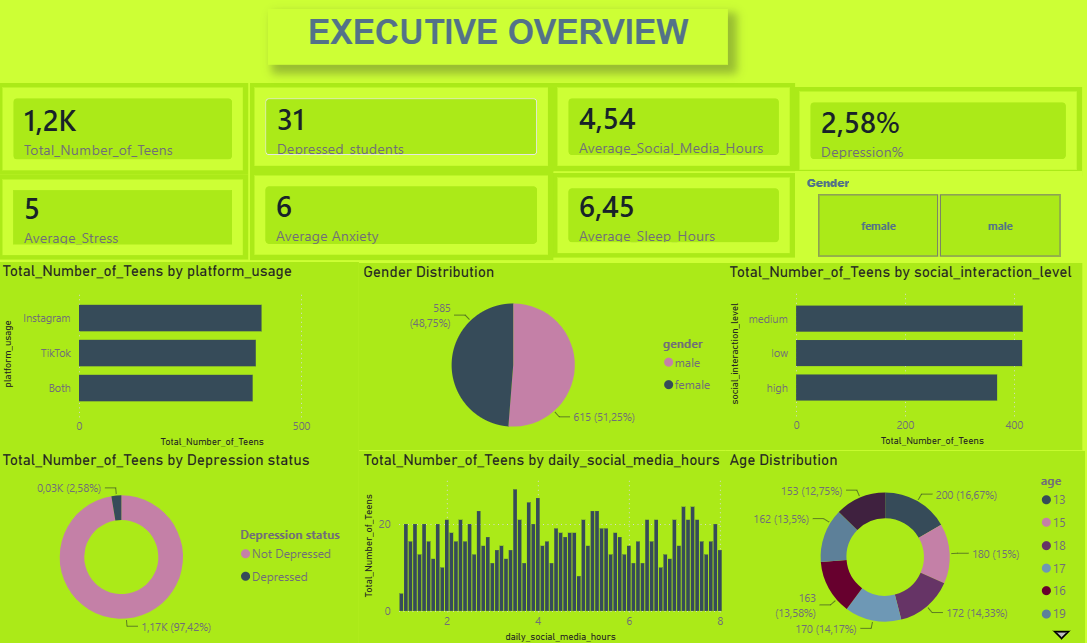

This screenshot's page, from the dashboard's own definition file:
{"tool":"powerbi","page":{"name":"Executive Overview","canvas":[1280,720],"ordinal":0},"visuals":[{"type":"cardVisual","fields":{"Data":["Teen_Mental_Health_Dataset.Total_Number_of_Teens"]},"box":[0,94.4,277.8,102.2],"z":0},{"type":"cardVisual","fields":{"Data":["Teen_Mental_Health_Dataset.Depressed_students"]},"box":[280,94.4,336.7,97.8],"z":1000},{"type":"cardVisual","fields":{"Data":["Teen_Mental_Health_Dataset.Depression%"]},"box":[885.6,98.9,318.9,97.8],"z":2000},{"type":"cardVisual","fields":{"Data":["Teen_Mental_Health_Dataset.Average_Social_Media_Hours"]},"box":[616.7,94.4,268.9,97.8],"z":3000},{"type":"cardVisual","fields":{"Data":["Teen_Mental_Health_Dataset.Average_Sleep_Hours"]},"box":[616.7,194.4,268.9,94.4],"z":4000},{"type":"cardVisual","fields":{"Data":["Teen_Mental_Health_Dataset.Average_Stress"]},"box":[0,196.7,277.8,94.4],"z":5000},{"type":"cardVisual","fields":{"Data":["Teen_Mental_Health_Dataset.Average Anxiety"]},"box":[280,192.2,336.7,98.9],"z":6000},{"type":"pieChart","title":"Gender Distribution","fields":{"Category":["Teen_Mental_Health_Dataset.gender"],"Y":["CountNonNull(Teen_Mental_Health_Dataset.gender)"]},"box":[401.1,294.4,406.7,207.8],"z":7000},{"type":"donutChart","title":"Age Distribution","fields":{"Y":["CountNonNull(Teen_Mental_Health_Dataset.age)"],"Category":["Teen_Mental_Health_Dataset.age"]},"box":[807.8,503.3,400,216.7],"z":8000},{"type":"clusteredColumnChart","fields":{"Y":["Teen_Mental_Health_Dataset.Total_Number_of_Teens"],"Category":["Teen_Mental_Health_Dataset.daily_social_media_hours"]},"box":[401.1,503.3,410,216.7],"z":9000},{"type":"barChart","fields":{"Category":["Teen_Mental_Health_Dataset.platform_usage"],"Y":["Teen_Mental_Health_Dataset.Total_Number_of_Teens"]},"box":[0,293.3,401.1,210],"z":10000},{"type":"barChart","fields":{"Category":["Teen_Mental_Health_Dataset.social_interaction_level"],"Y":["Teen_Mental_Health_Dataset.Total_Number_of_Teens"]},"box":[807.8,294.4,396.7,207.8],"z":11000},{"type":"donutChart","fields":{"Y":["Teen_Mental_Health_Dataset.Total_Number_of_Teens"],"Category":["Teen_Mental_Health_Dataset.Depression Text status "]},"box":[0,503.3,401.1,216.7],"z":12000},{"type":"slicer","fields":{"Values":["Teen_Mental_Health_Dataset.gender"]},"box":[885.6,192.2,318.9,102.2],"z":12001},{"type":"textbox","box":[300,12.2,511.1,62.2],"z":12002}]}

Visuals, with their boxes on the page's 1280x720 design canvas (x1, y1, x2, y2). These are canvas units, not pixel positions in the 1087x643 screenshot, which may show the page scaled, cropped or inside an application window:
cardVisual - Teen_Mental_Health_Dataset.Total_Number_of_Teens: 0, 94, 278, 197
cardVisual - Teen_Mental_Health_Dataset.Depressed_students: 280, 94, 617, 192
cardVisual - Teen_Mental_Health_Dataset.Depression%: 886, 99, 1204, 197
cardVisual - Teen_Mental_Health_Dataset.Average_Social_Media_Hours: 617, 94, 886, 192
cardVisual - Teen_Mental_Health_Dataset.Average_Sleep_Hours: 617, 194, 886, 289
cardVisual - Teen_Mental_Health_Dataset.Average_Stress: 0, 197, 278, 291
cardVisual - Teen_Mental_Health_Dataset.Average Anxiety: 280, 192, 617, 291
"Gender Distribution" pieChart: 401, 294, 808, 502
"Age Distribution" donutChart: 808, 503, 1208, 720
clusteredColumnChart - Teen_Mental_Health_Dataset.Total_Number_of_Teens x Teen_Mental_Health_Dataset.daily_social_media_hours: 401, 503, 811, 720
barChart - Teen_Mental_Health_Dataset.platform_usage x Teen_Mental_Health_Dataset.Total_Number_of_Teens: 0, 293, 401, 503
barChart - Teen_Mental_Health_Dataset.social_interaction_level x Teen_Mental_Health_Dataset.Total_Number_of_Teens: 808, 294, 1204, 502
donutChart - Teen_Mental_Health_Dataset.Total_Number_of_Teens x Teen_Mental_Health_Dataset.Depression Text status : 0, 503, 401, 720
slicer - Teen_Mental_Health_Dataset.gender: 886, 192, 1204, 294
textbox: 300, 12, 811, 74
